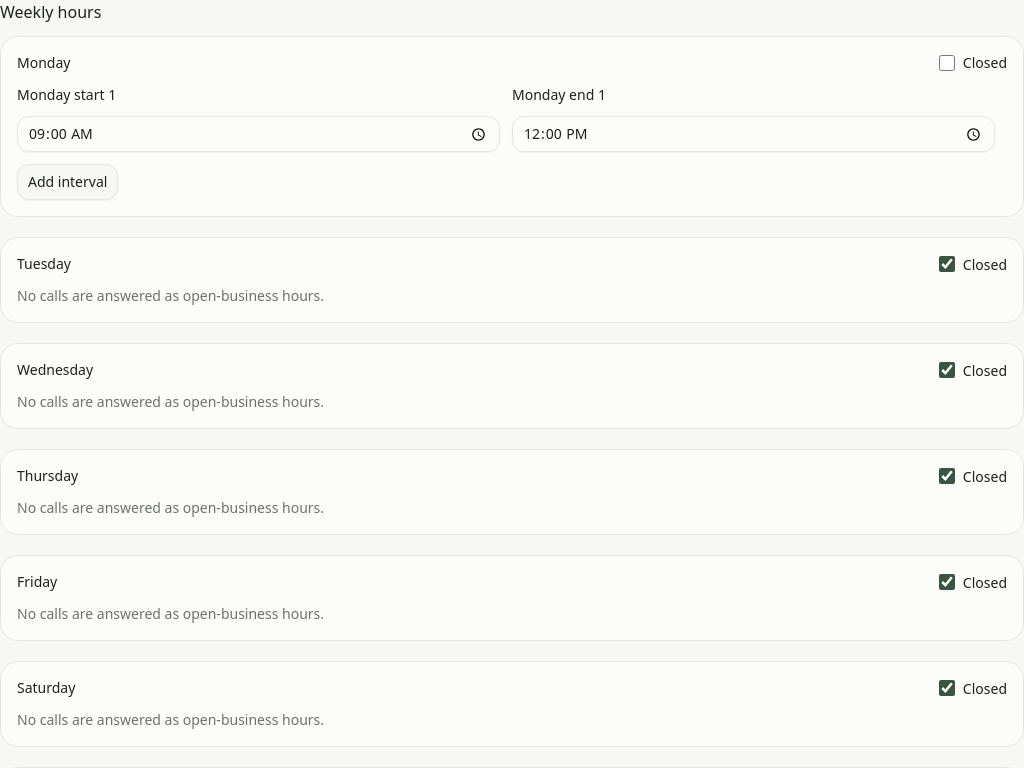
Scenario: business hours editor › keeps a closed day free of intervals
Click the checkbox named "Monday closed". click: click(947, 63)
box: [939,55,955,71]
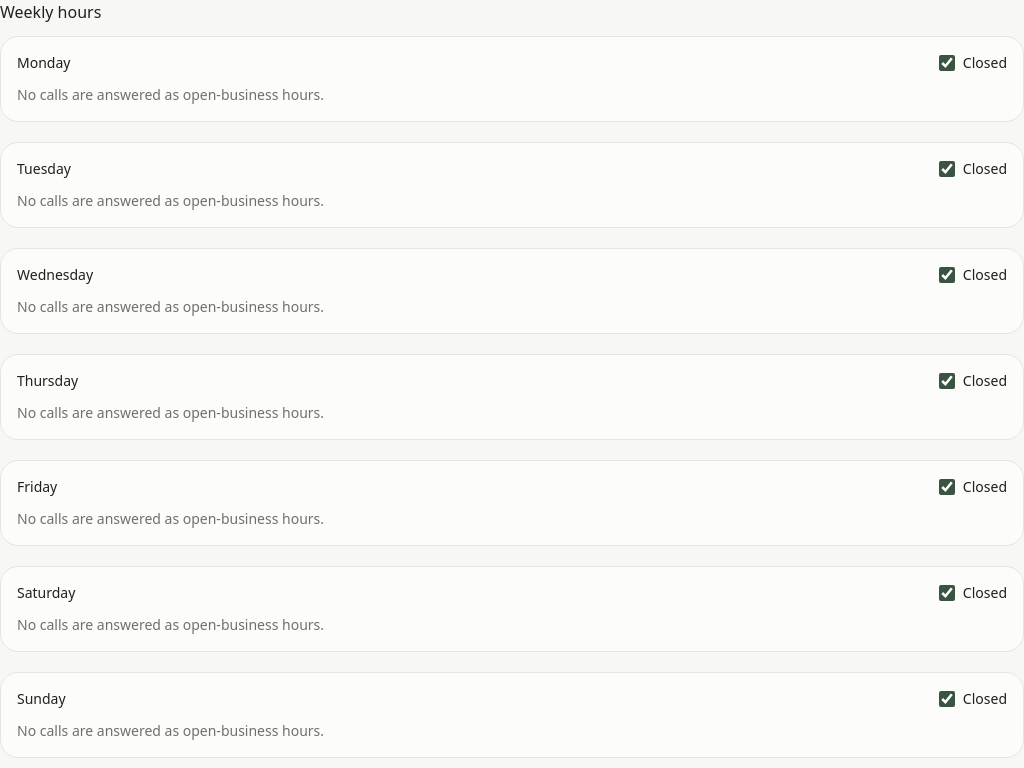
expect the label labelled "Monday start" is gone: met
